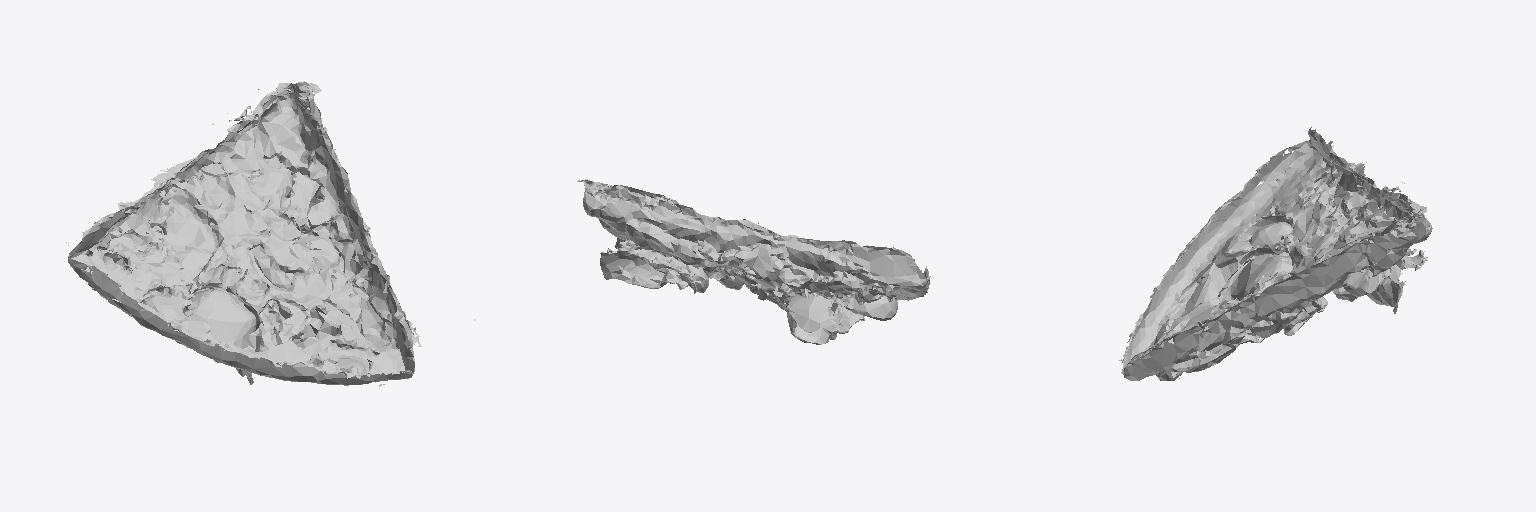
The model's file is pizza_12734.obj.
3 views of the same model, side by side, from view 1: azimuth 30°, elevation 25°; view 2: azimuth 150°, elevation 25°; view 3: azimuth 270°, elevation 25° (orthographic).
Bounding box in the file's own units: 1.61 × 0.8472 × 1.27.